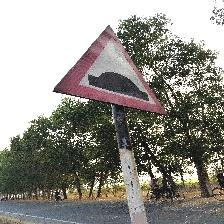Speed-breaker: (54, 24, 167, 115)
